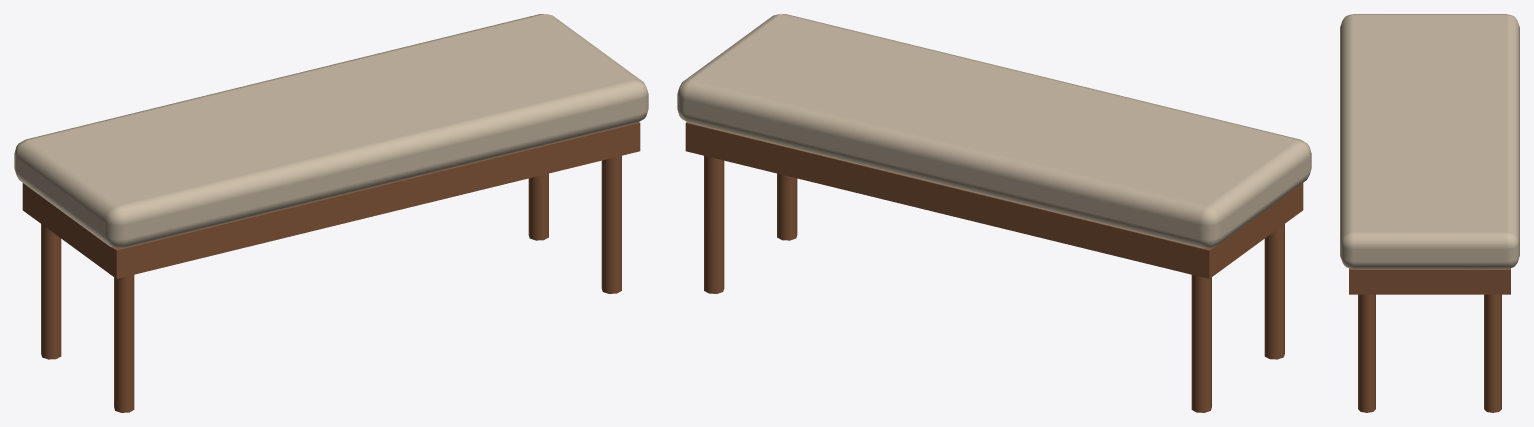
The picture shows the model from 3 angles, left to right: view 1: azimuth 30°, elevation 25°; view 2: azimuth 150°, elevation 25°; view 3: azimuth 270°, elevation 25°; orthographic projection. The views are drawn at different scales.
Parts seen in each view (by area): view 1: seat, frame, leg-3, leg-4, leg-1, leg-2; view 2: seat, frame, leg-1, leg-2, leg-3, leg-4; view 3: seat, frame, leg-2, leg-4.
Part boxes in pixels (bbox=[...]): seat: bbox=[14, 14, 648, 248]; frame: bbox=[22, 122, 640, 278]; leg-3: bbox=[114, 275, 134, 412]; leg-4: bbox=[601, 156, 621, 293]; leg-1: bbox=[41, 224, 61, 359]; leg-2: bbox=[528, 173, 548, 240]; seat: bbox=[677, 14, 1311, 248]; frame: bbox=[685, 122, 1303, 278]; leg-1: bbox=[1191, 275, 1211, 412]; leg-2: bbox=[704, 156, 724, 293]; leg-3: bbox=[1264, 224, 1284, 359]; leg-4: bbox=[777, 173, 797, 240]; seat: bbox=[1340, 14, 1519, 269]; frame: bbox=[1349, 268, 1510, 294]; leg-2: bbox=[1484, 294, 1501, 412]; leg-4: bbox=[1358, 294, 1375, 412].
Size of the model in its own units: 1.2 by 0.45 by 0.4.
